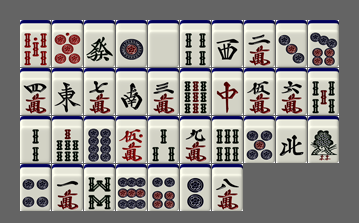0m: (116, 116, 147, 163)
0p: (52, 20, 83, 67)
0s: (20, 20, 51, 67)
1m: (52, 164, 83, 211)
1p: (116, 20, 147, 67)
1s: (308, 116, 339, 163)
1z: (52, 68, 83, 115)
2m: (244, 20, 275, 67)
2p: (180, 164, 211, 211)
2s: (20, 116, 51, 163)
2z: (116, 68, 147, 115)
3m: (148, 68, 179, 115)
3p: (276, 20, 307, 67)
3s: (148, 116, 179, 163)
3z: (212, 20, 243, 67)
4m: (20, 68, 51, 115)
4p: (20, 164, 51, 211)
4s: (180, 20, 211, 67)
4z: (276, 116, 307, 163)
5m: (244, 68, 275, 115)
5p: (244, 116, 275, 163)
5s: (308, 68, 339, 115)
5z: (148, 20, 179, 67)
6m: (276, 68, 307, 115)
6p: (148, 164, 179, 211)
6s: (212, 116, 243, 163)
6z: (84, 20, 115, 67)
7m: (84, 68, 115, 115)
7p: (308, 20, 339, 67)
7s: (52, 116, 83, 163)
7z: (212, 68, 243, 115)
8m: (212, 164, 243, 211)
8p: (84, 116, 115, 163)
8s: (84, 164, 115, 211)
9m: (180, 116, 211, 163)
9p: (116, 164, 147, 211)
9s: (180, 68, 211, 115)
